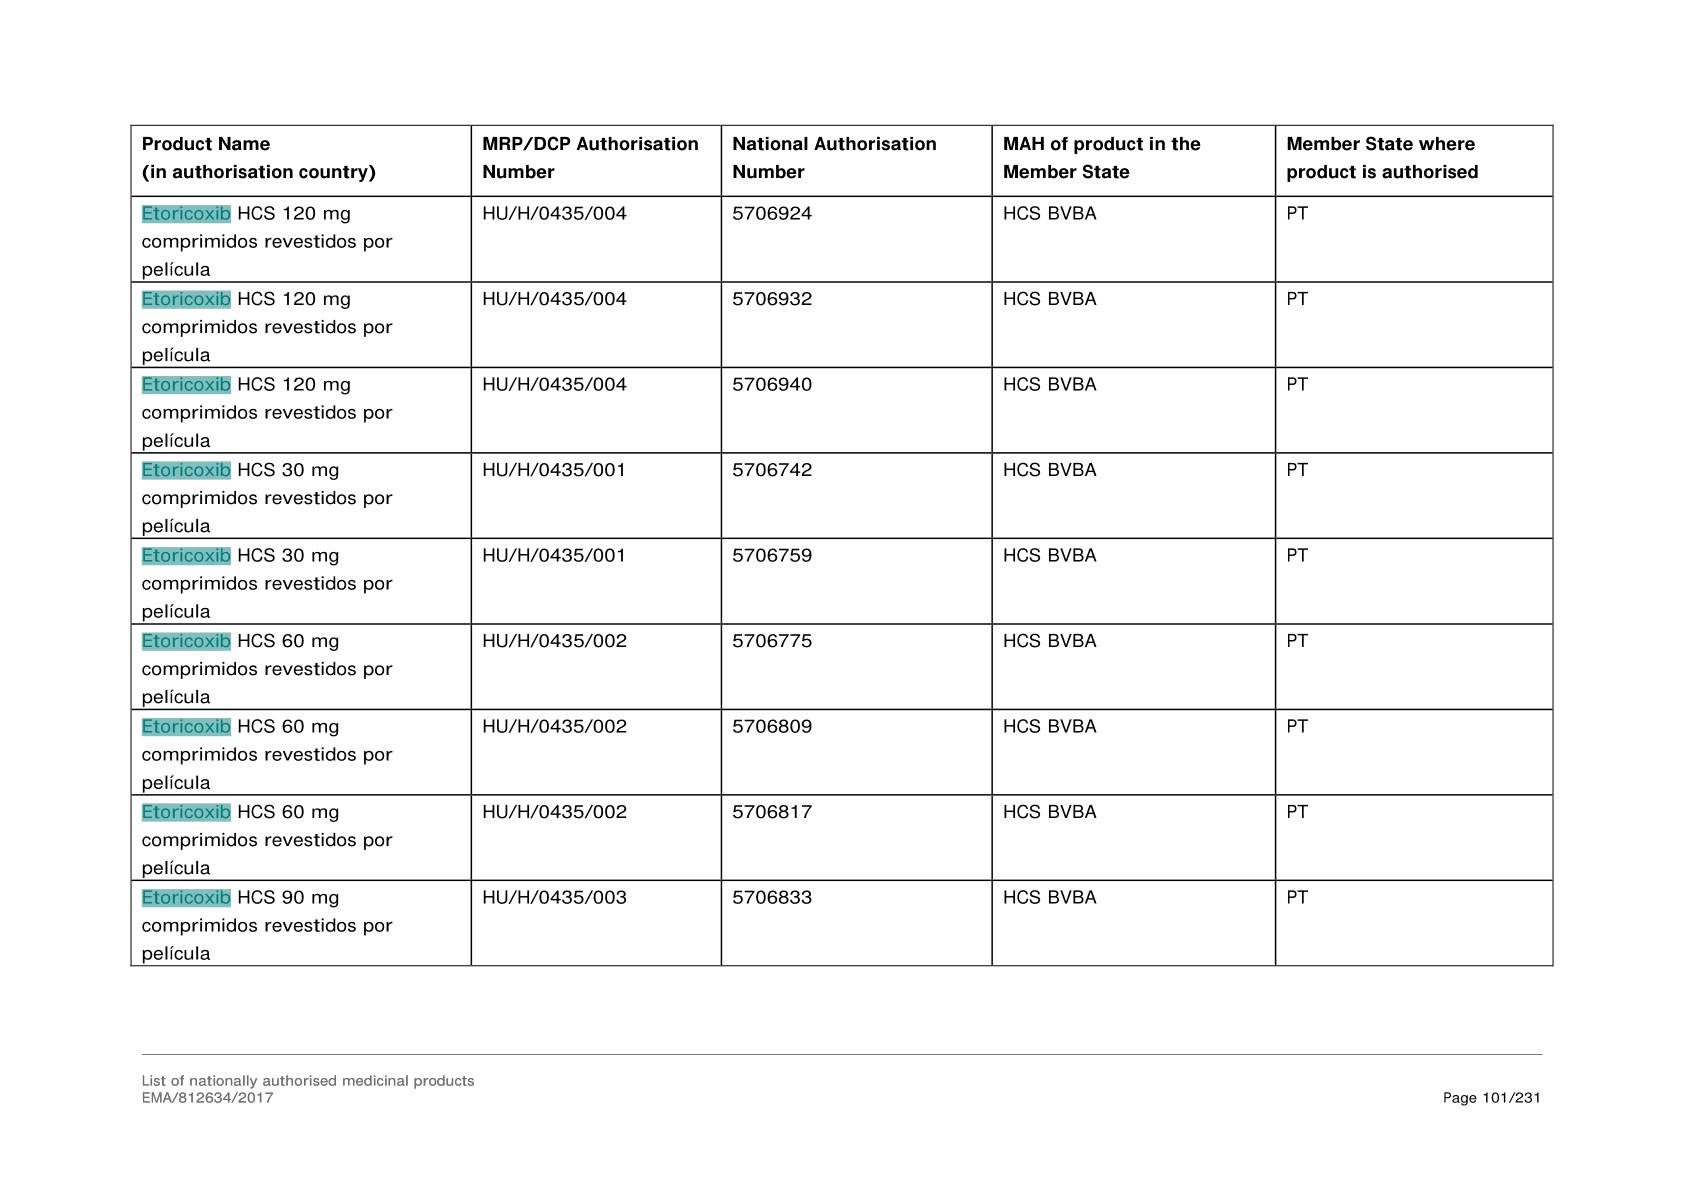full_lined: (129, 122, 1554, 968)
